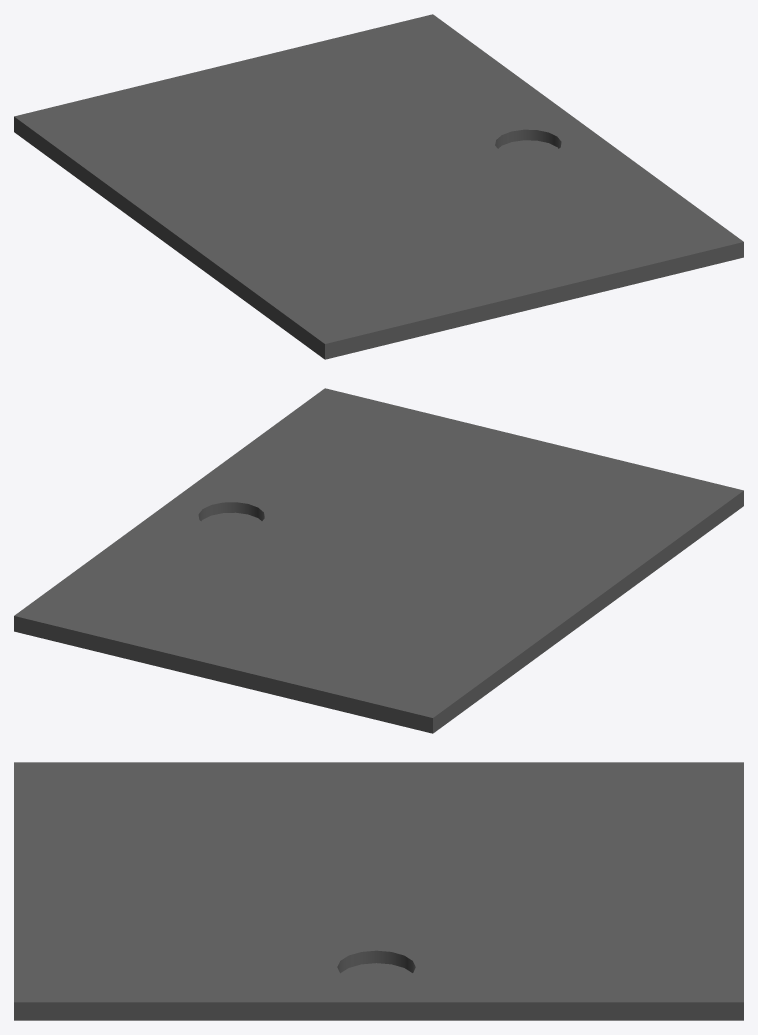
The model's file is floor_6.fbx.
The picture shows the model from 3 angles, top to bottom: view 1: azimuth 30°, elevation 25°; view 2: azimuth 150°, elevation 25°; view 3: azimuth 270°, elevation 25°; orthographic projection. The views are drawn at different scales.
Parts seen in each view (by area): view 1: m6; view 2: m6; view 3: m6.
Boxes of the visible parts, left/top/right/bottom form: m6: left=14, top=14, right=743, bottom=359; m6: left=14, top=388, right=743, bottom=733; m6: left=14, top=762, right=743, bottom=1020.
Size of the model in its own units: 2800 by 100 by 3600.
1 material, 1 textured.
